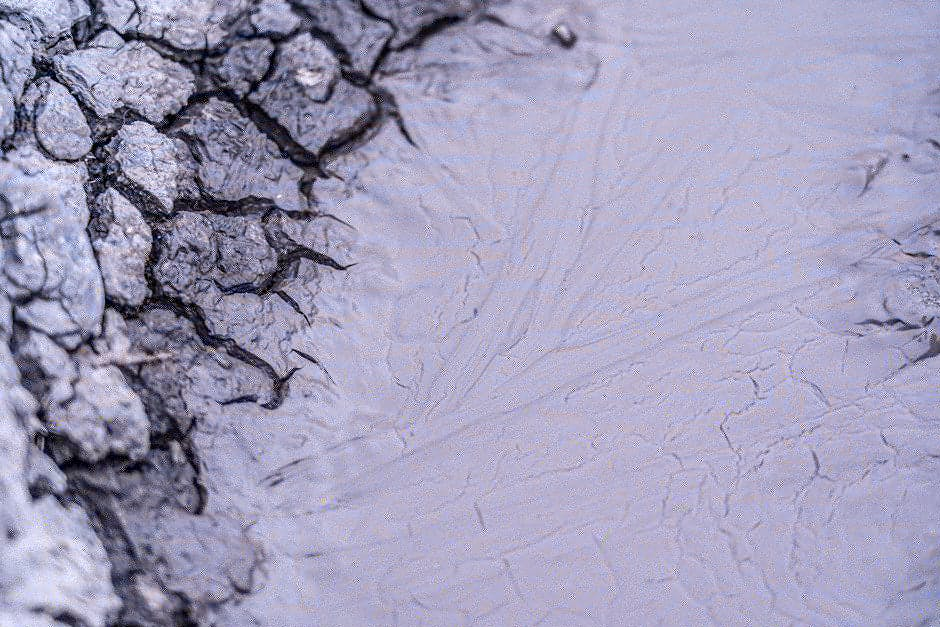深大裂缝: (50, 26, 315, 393)
